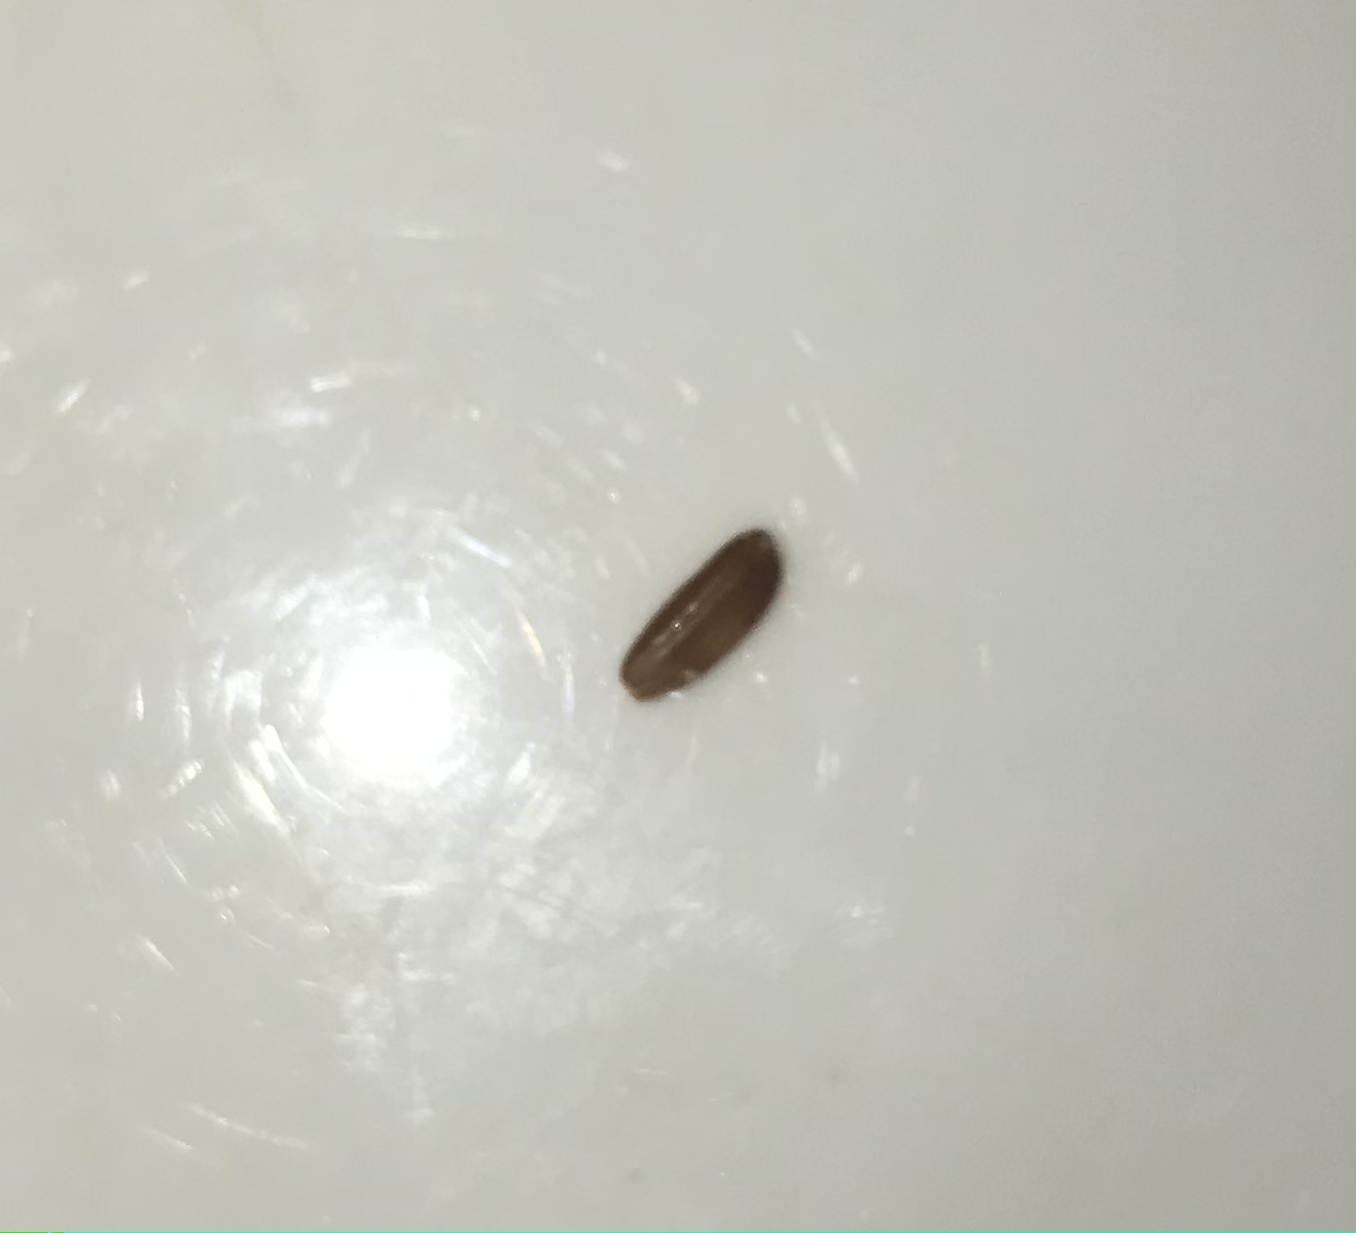Gao Lut Do: (619, 511, 785, 720)
